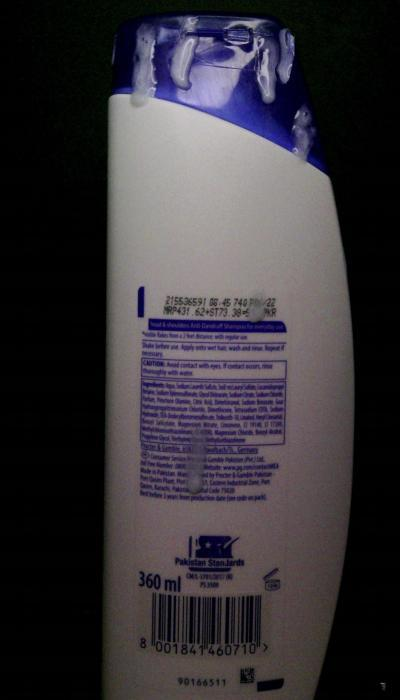pob_unacc: (118, 16, 200, 105), (244, 16, 302, 99), (185, 410, 228, 502), (289, 90, 317, 175), (243, 282, 277, 329)
